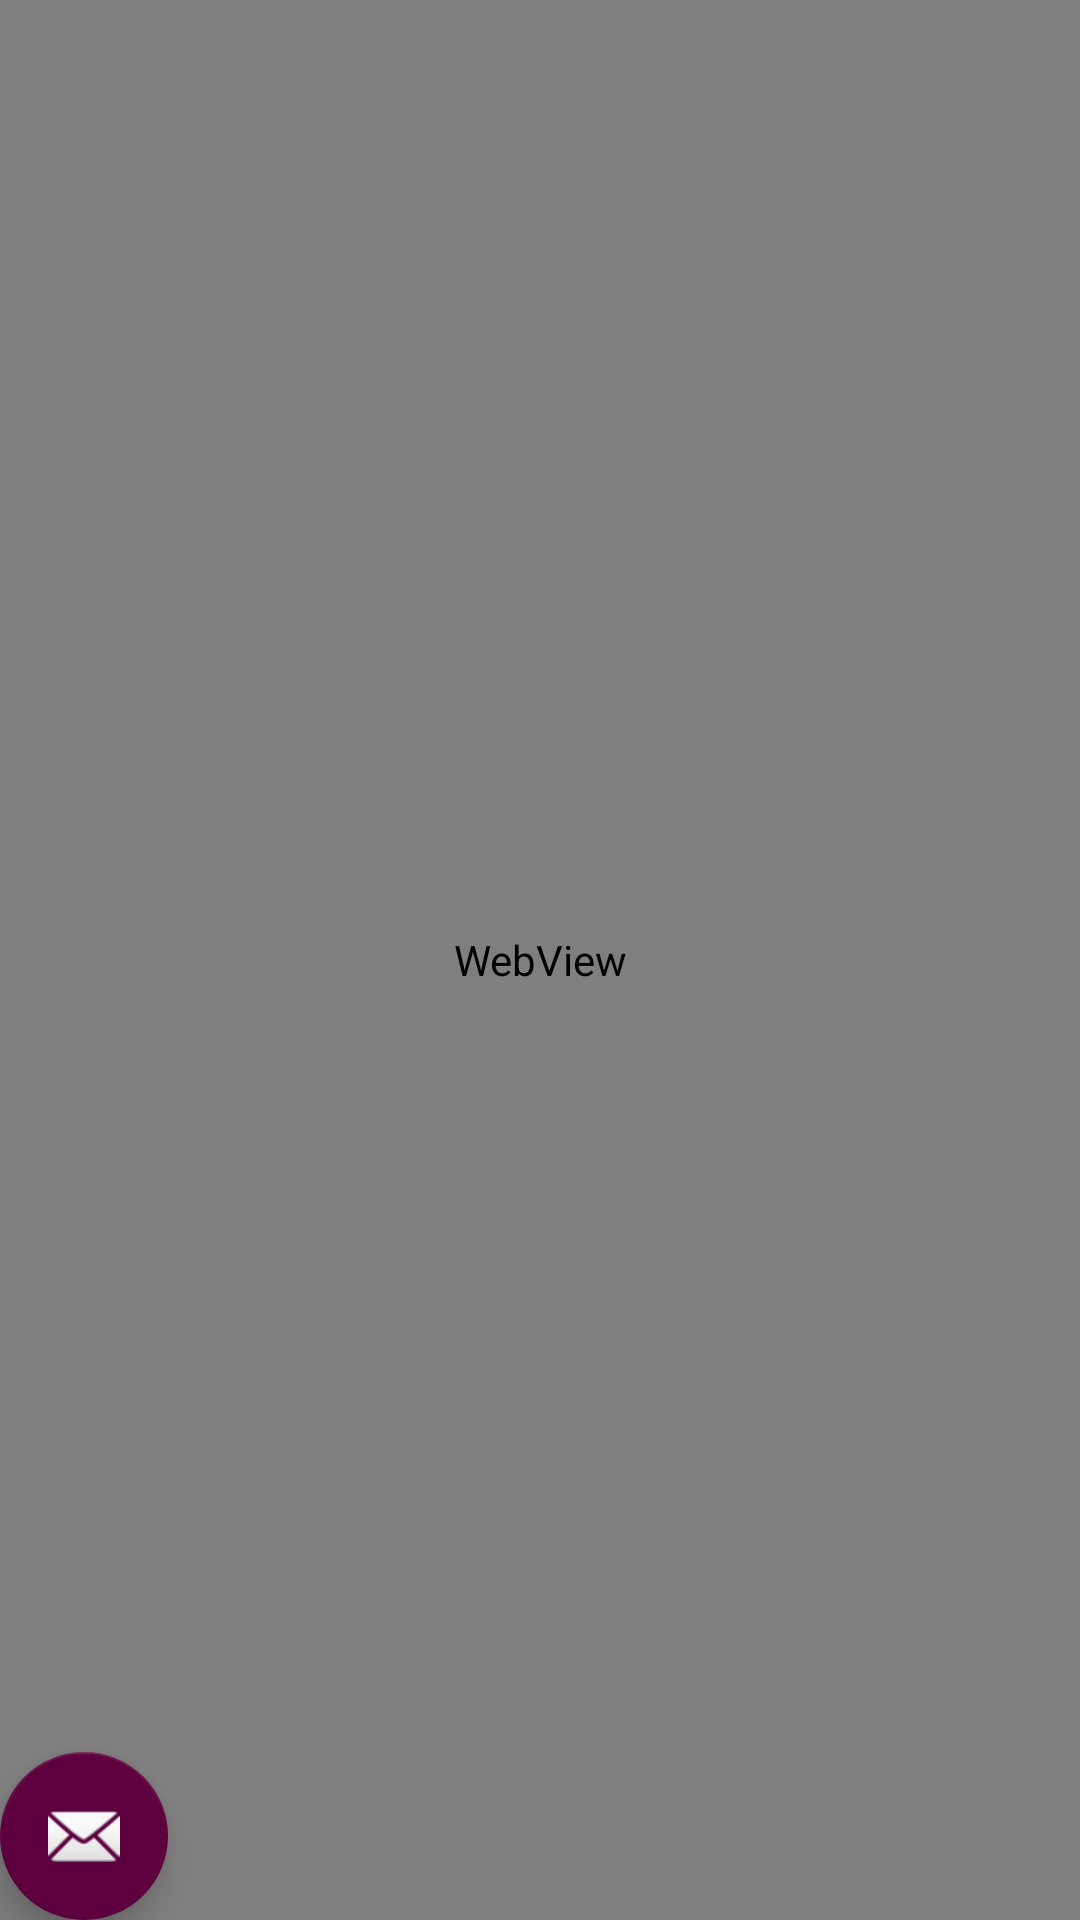

Icon click points for this 1080px x 1920px phone screenshot, format point (x, y):
email: point (84, 1836)
